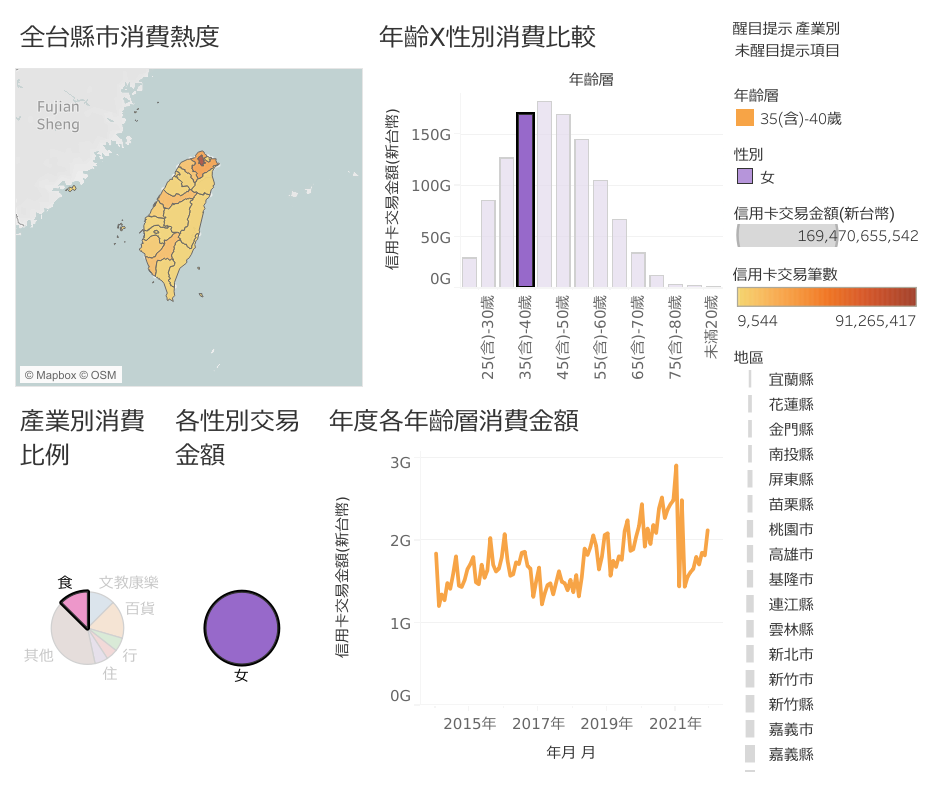

What the dashboard file says about the page in this screenshot:
{"tool":"tableau","page":{"name":"儀表板窗格 1","canvas":[1000,1000],"units":"permille","ordinal":0},"visuals":[{"type":"worksheet","title":"全台縣市消費熱度","mark":"Multipolygon","box":[4.8,9.4,446.9,490.6]},{"type":"worksheet","title":"年齡X性別消費比較","mark":"Automatic","rows":["信用卡交易金額(新台幣)"],"cols":["年齡層"],"box":[451.7,9.4,446.9,490.6]},{"type":"highlighter","title":"產業別消費比例","param":"[federated.0g2oetc1v2s88r16os5ns0wi0wuw].[none:產業別:nk]","box":[898.6,9.4,96.6,65.7]},{"type":"legend","title":"年度各年齡層消費金額","param":"[federated.0g2oetc1v2s88r16os5ns0wi0wuw].[none:年齡層:nk]","box":[898.6,75.1,96.6,342.7]},{"type":"legend","title":"年齡X性別消費比較","param":"[federated.0g2oetc1v2s88r16os5ns0wi0wuw].[none:性別:nk]","box":[898.6,417.8,96.6,84.5]},{"type":"worksheet","title":"產業別消費比例","mark":"Pie","box":[4.8,500,192.8,490.6]},{"type":"worksheet","title":"各性別交易金額","mark":"Pie","box":[197.6,500,192.2,490.6]},{"type":"worksheet","title":"年度各年齡層消費金額","mark":"Automatic","rows":["信用卡交易金額(新台幣)"],"cols":["年月"],"box":[389.8,500,508.8,490.6]},{"type":"legend","title":"各性別交易金額","param":"[federated.0g2oetc1v2s88r16os5ns0wi0wuw].[sum:信用卡交易金額(新台幣):qk]","box":[898.6,502.4,96.6,59.9]},{"type":"legend","title":"全台縣市消費熱度","param":"[federated.0g2oetc1v2s88r16os5ns0wi0wuw].[sum:信用卡交易金額(新台幣):qk]","box":[898.6,562.2,96.6,85.7]},{"type":"legend","title":"全台縣市消費熱度","param":"[federated.0g2oetc1v2s88r16os5ns0wi0wuw].[none:地區:nk]","box":[898.6,647.9,96.6,342.7]}]}

Visuals, with their boxes on the dashboard's canvas, which has no fixed pixel size, in thousandths of its width and height (x1, y1, x2, y2). These are canvas units, not pixel positions in the 936x785 screenshot, which may show the page scaled, cropped or inside an application window:
"全台縣市消費熱度" worksheet (Multipolygon marks): locate(5, 9, 452, 500)
"年齡X性別消費比較" worksheet: locate(452, 9, 899, 500)
"產業別消費比例" highlighter: locate(899, 9, 995, 75)
"年度各年齡層消費金額" legend: locate(899, 75, 995, 418)
"年齡X性別消費比較" legend: locate(899, 418, 995, 502)
"產業別消費比例" worksheet (Pie marks): locate(5, 500, 198, 991)
"各性別交易金額" worksheet (Pie marks): locate(198, 500, 390, 991)
"年度各年齡層消費金額" worksheet: locate(390, 500, 899, 991)
"各性別交易金額" legend: locate(899, 502, 995, 562)
"全台縣市消費熱度" legend: locate(899, 562, 995, 648)
"全台縣市消費熱度" legend: locate(899, 648, 995, 991)
